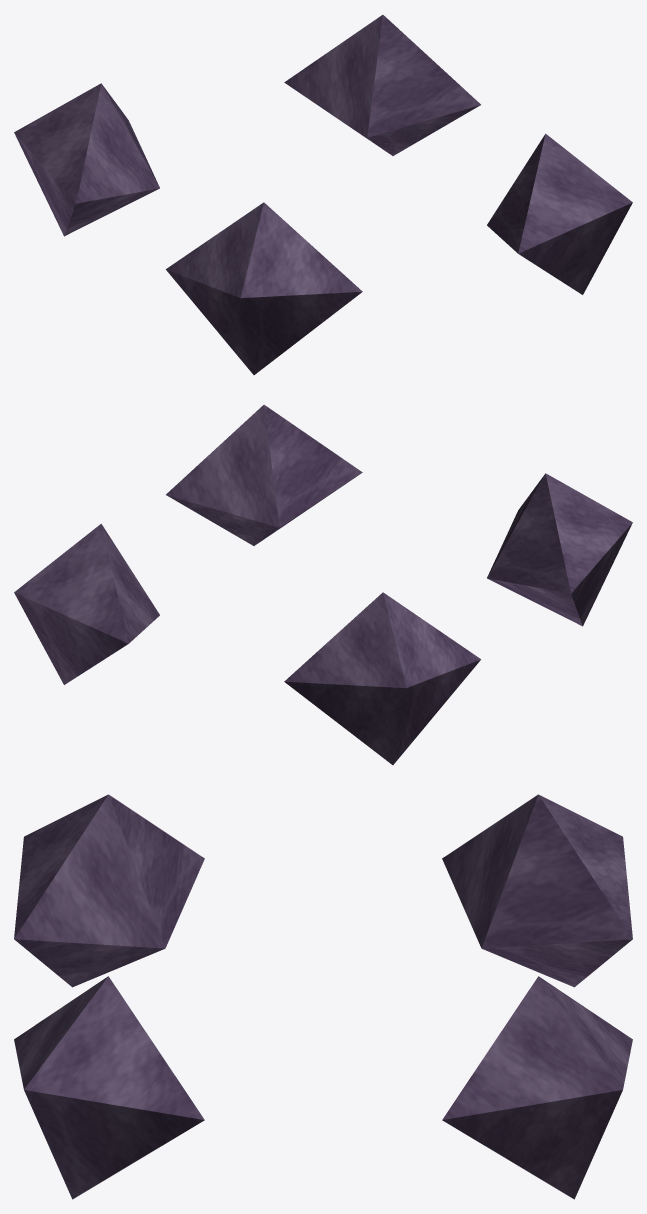
The model's file is Dark Gem Tower_Orbiting Gems.fbx.
3 renders of one model, top to bottom at view 1: azimuth 30°, elevation 25°; view 2: azimuth 150°, elevation 25°; view 3: azimuth 270°, elevation 25°, orthographic. The views are drawn at different scales.
Visible parts, largest first — view 1: polySurface111; view 2: polySurface111; view 3: polySurface111.
Part boxes in pixels (bbox=[...]): polySurface111: bbox=[14, 15, 632, 374]; polySurface111: bbox=[14, 405, 632, 764]; polySurface111: bbox=[14, 794, 632, 1199].
Bounding box in the file's own units: 48.48 × 18 × 48.48.
1 material, 1 textured.
